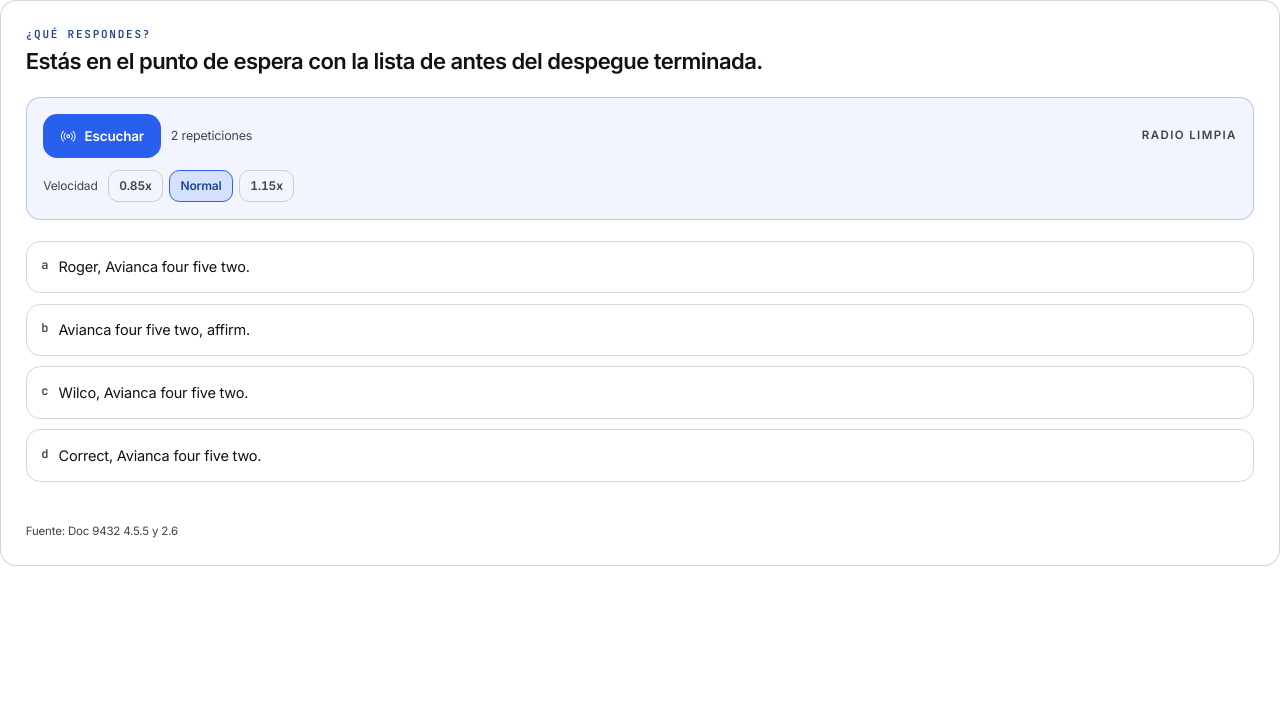
Test: interacción › ¿Qué respondes?: al elegir anuncia el resultado y muestra la transmisión
The width and height of the screenshot is (1280, 719).
Expected: the text "Avianca four five two, are you ready for immediate departure?" is not shown
Click the button "b Avianca four five two, affirm." at (154,329), box [26,304,1254,356]
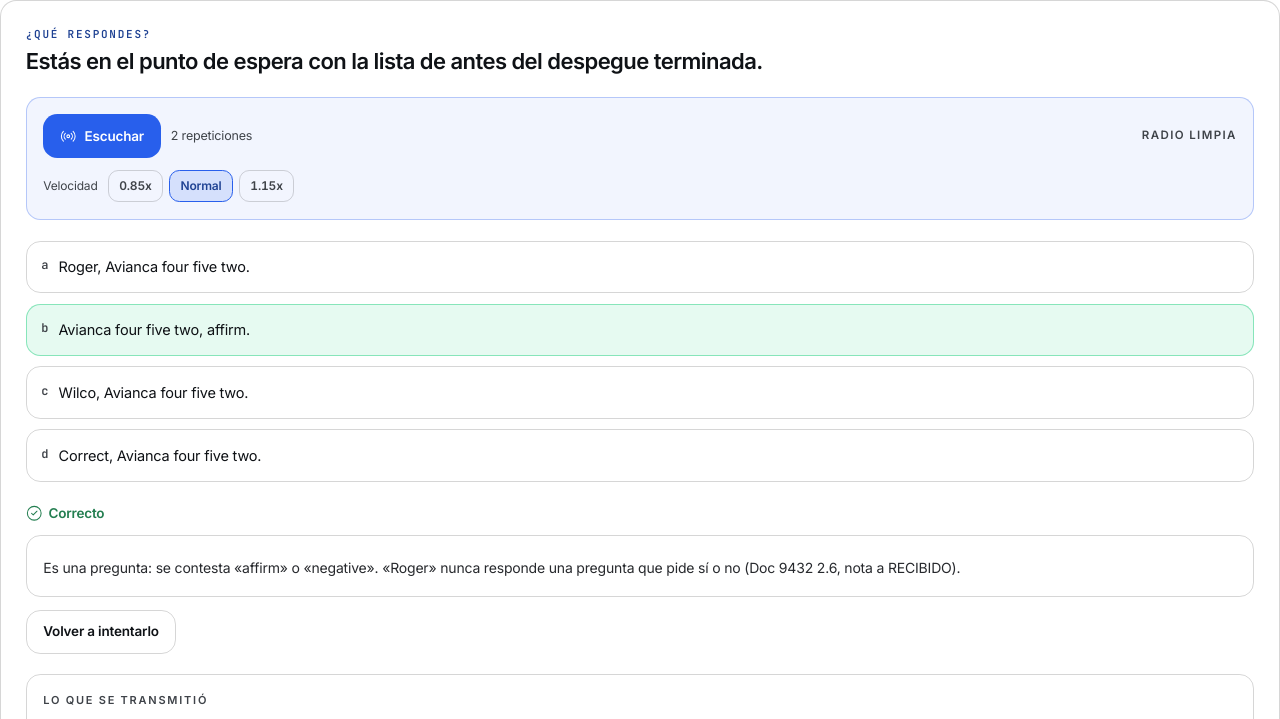
Expected: the message shows "Correcto", [48,505,104,521]
